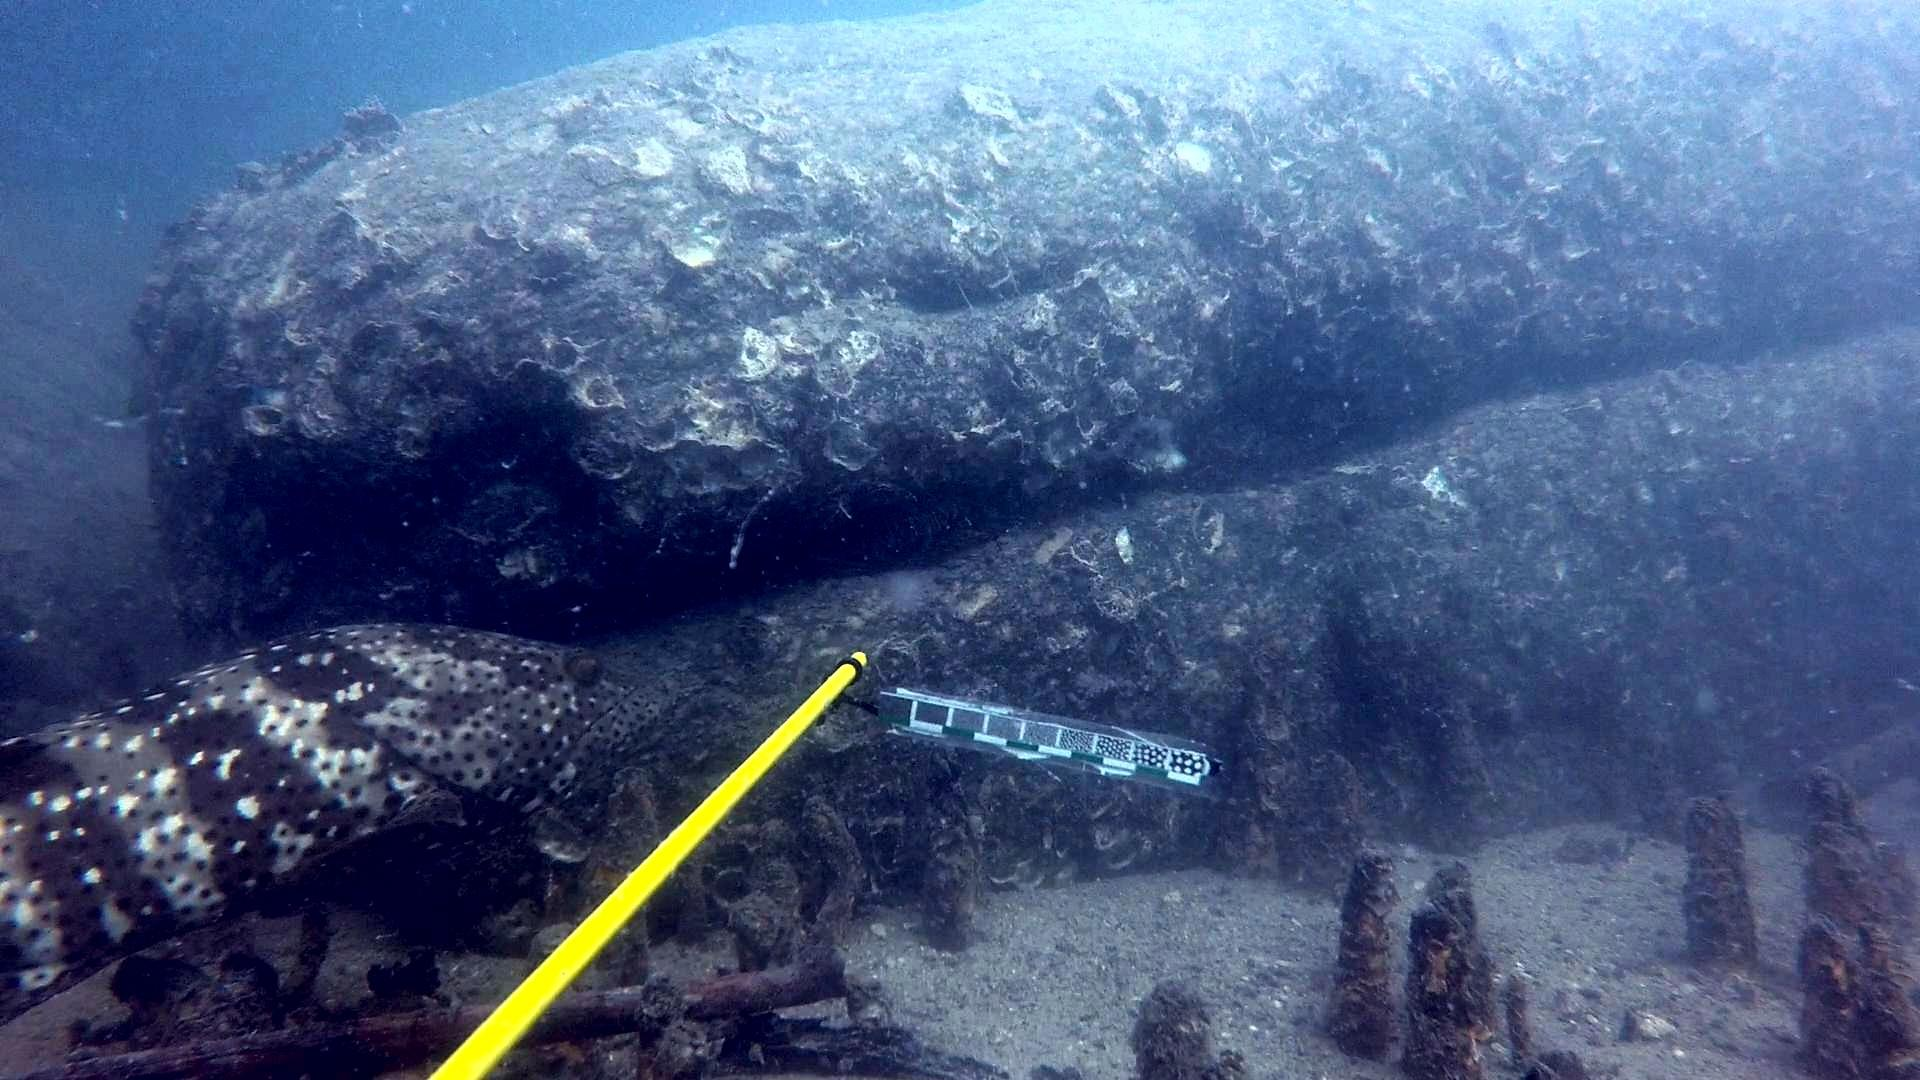epinephelus: (0, 615, 692, 1038)
